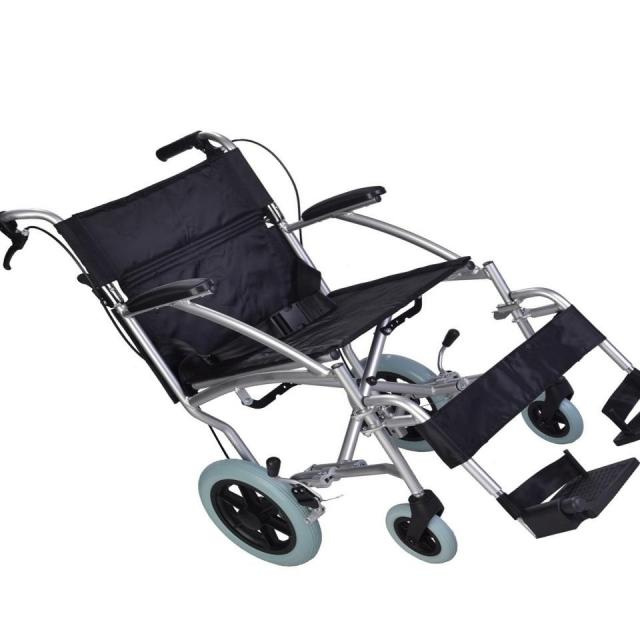wheelchair: (0, 117, 640, 571)
